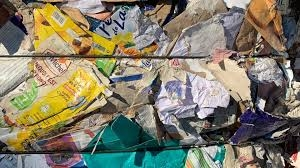paper: (2, 36, 109, 152), (23, 3, 122, 82), (75, 112, 194, 168), (156, 69, 231, 135), (231, 1, 296, 69)
